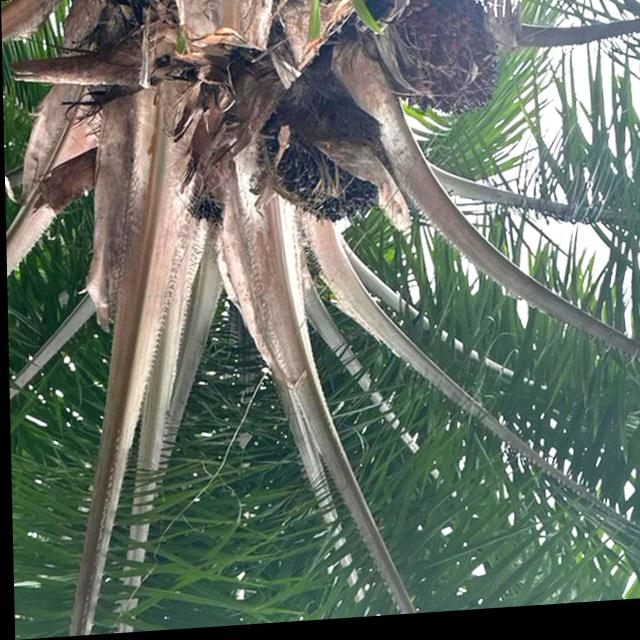unripe: (261, 74, 390, 234), (386, 0, 501, 129)
